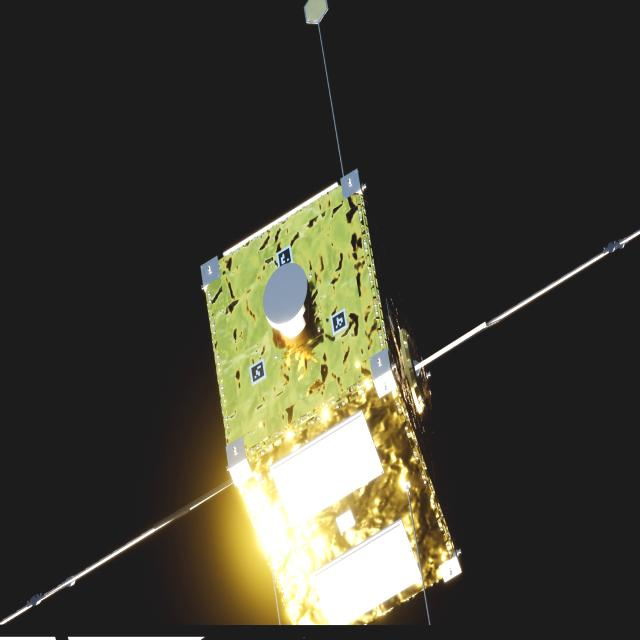satellite: (0, 170, 640, 634)
